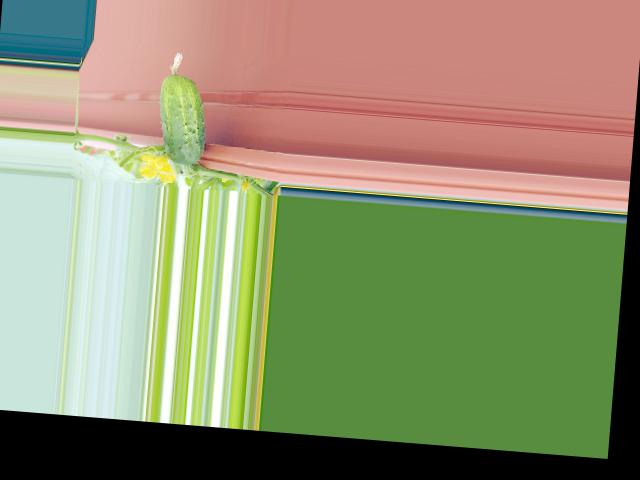cucumber: (154, 50, 211, 166)
